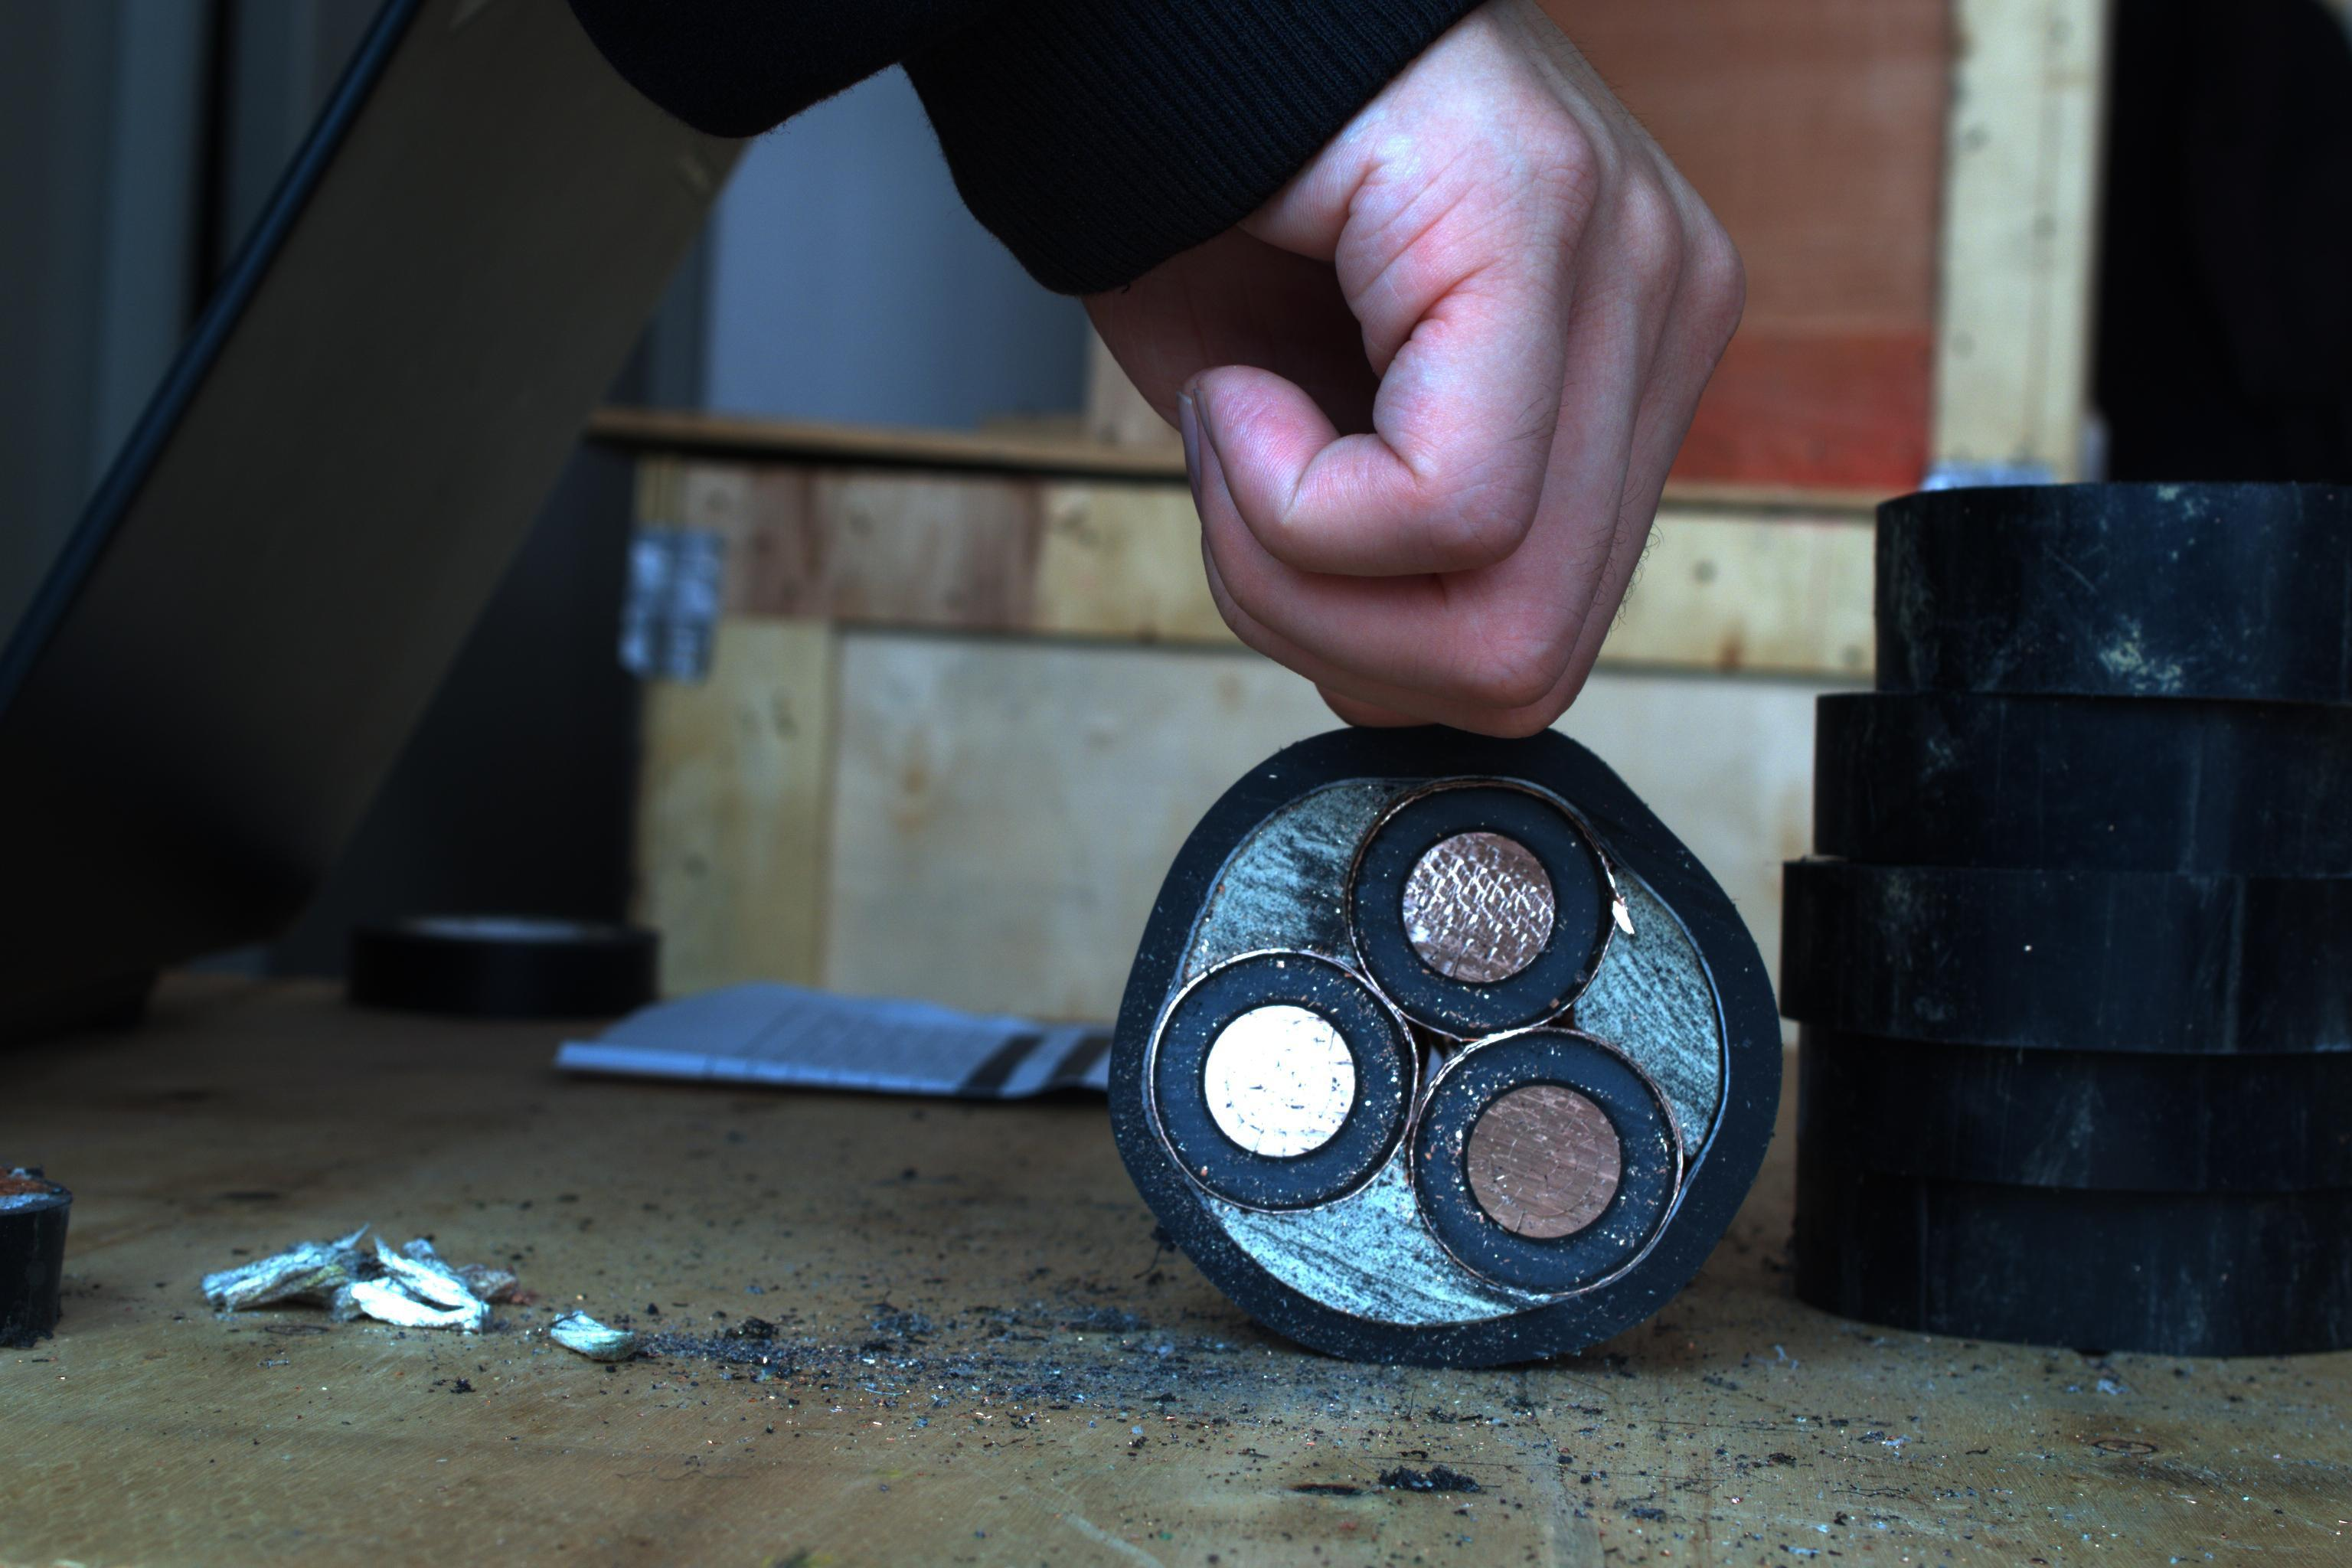ZA_YJV_8.7_10kV_3x240: (1139, 703, 1776, 1330)
